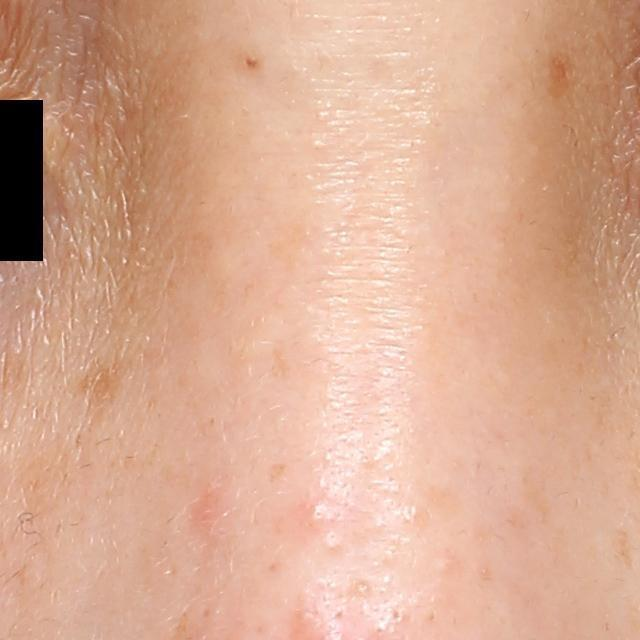comedo: (322, 536, 344, 556)
melasma: (80, 357, 127, 408), (549, 47, 578, 98), (612, 532, 633, 566)
papule: (297, 498, 328, 529)
